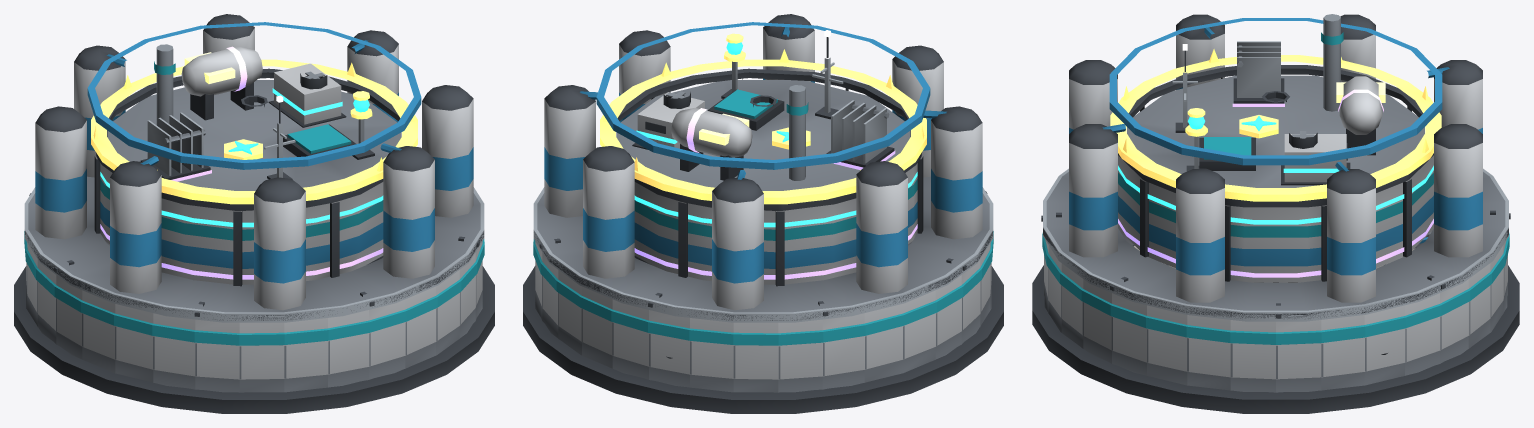
Rendered from water_recycler.glb.
3 views of the same model, side by side, from view 1: azimuth 30°, elevation 25°; view 2: azimuth 150°, elevation 25°; view 3: azimuth 270°, elevation 25° (orthographic).
Parts seen in each view (by area): view 1: Roof, Base, L5, L4, L2, L3, Wall_21, Wall_20, Wall_22, Wall_19, Wall_23, Wall_18 (+9 smaller); view 2: Roof, Base, L5, L4, L2, Wall_10, Wall_11, Wall_09, L3, Wall_12, Wall_08, Wall_13 (+9 smaller); view 3: Roof, Base, L5, L4, L2, L3, Wall_00, Wall_31, Wall_01, Wall_30, Wall_02, Wall_29 (+8 smaller).
Part boxes in pixels (<box>): Roof: <box>24,14,483,320</box>; Base: <box>14,241,494,413</box>; L5: <box>91,59,417,204</box>; L4: <box>100,46,383,279</box>; L2: <box>24,95,484,322</box>; L3: <box>100,63,383,227</box>; Wall_21: <box>239,322,284,392</box>; Wall_20: <box>194,301,239,392</box>; Wall_22: <box>284,318,328,392</box>; Wall_19: <box>152,313,195,389</box>; Wall_23: <box>328,310,369,387</box>; Wall_18: <box>114,304,153,382</box>; Roof: <box>535,14,993,320</box>; Base: <box>523,241,1003,413</box>; L5: <box>600,33,926,204</box>; L4: <box>634,100,917,279</box>; L2: <box>533,30,993,322</box>; Wall_10: <box>733,322,778,392</box>; Wall_11: <box>778,319,823,392</box>; Wall_09: <box>689,318,733,392</box>; L3: <box>632,91,917,227</box>; Wall_12: <box>818,301,865,389</box>; Wall_08: <box>648,293,689,387</box>; Wall_13: <box>864,304,903,382</box>; Roof: <box>1043,14,1508,318</box>; Base: <box>1032,232,1519,413</box>; L5: <box>1110,49,1441,201</box>; L4: <box>1118,41,1433,277</box>; L2: <box>1043,44,1508,321</box>; L3: <box>1118,91,1433,224</box>; Wall_00: <box>1276,303,1321,392</box>; Wall_31: <box>1230,320,1275,392</box>; Wall_01: <box>1321,315,1365,390</box>; Wall_30: <box>1186,315,1230,390</box>; Wall_02: <box>1364,305,1405,385</box>; Wall_29: <box>1146,305,1187,385</box>.
Bounding box in the file's own units: 7.73 × 4.6 × 7.73.
